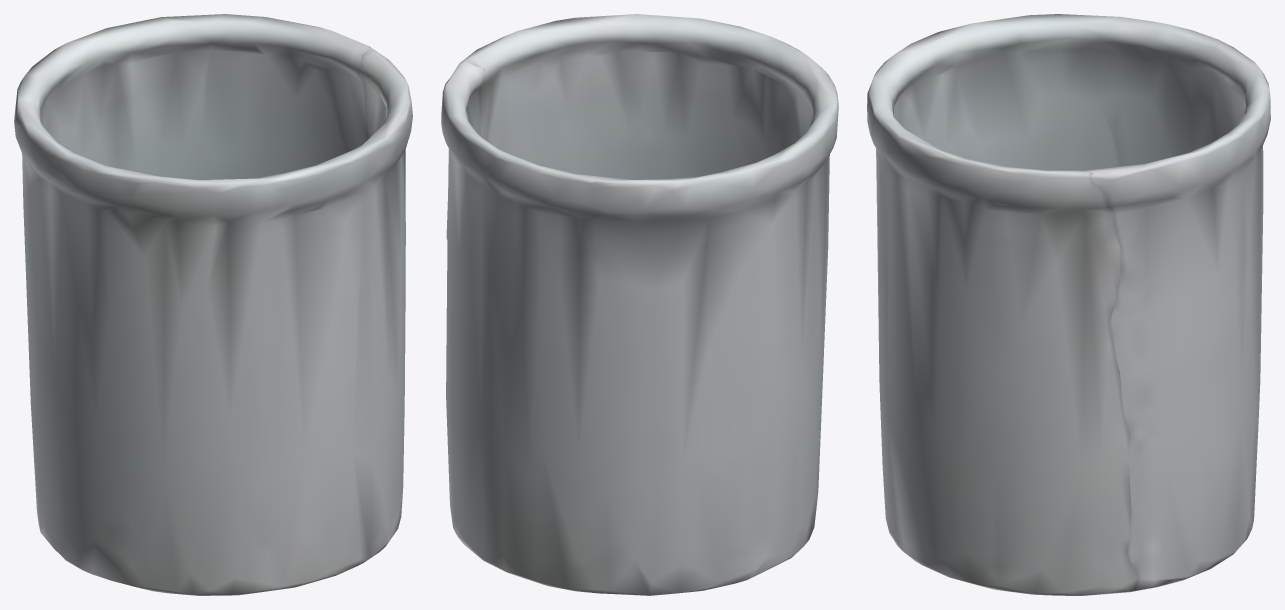
File: BIA_Cordon_Bleu_White_Porcelain_Utensil_Holder_900028-medium.glb
3 renders of one model, left to right at view 1: azimuth 30°, elevation 25°; view 2: azimuth 150°, elevation 25°; view 3: azimuth 270°, elevation 25°, orthographic.
Visible parts, largest first — view 1: BIA_Cordon_Bleu_White_Porcelain_Utensil_Holder_900028; view 2: BIA_Cordon_Bleu_White_Porcelain_Utensil_Holder_900028; view 3: BIA_Cordon_Bleu_White_Porcelain_Utensil_Holder_900028.
Part boxes in pixels (x1=…): BIA_Cordon_Bleu_White_Porcelain_Utensil_Holder_900028: x1=14, y1=14, x2=412, y2=595; BIA_Cordon_Bleu_White_Porcelain_Utensil_Holder_900028: x1=441, y1=14, x2=838, y2=595; BIA_Cordon_Bleu_White_Porcelain_Utensil_Holder_900028: x1=867, y1=14, x2=1270, y2=595.
Bounding box in the file's own units: 0.1473 × 0.175 × 0.1485.
1 material, 1 textured.
